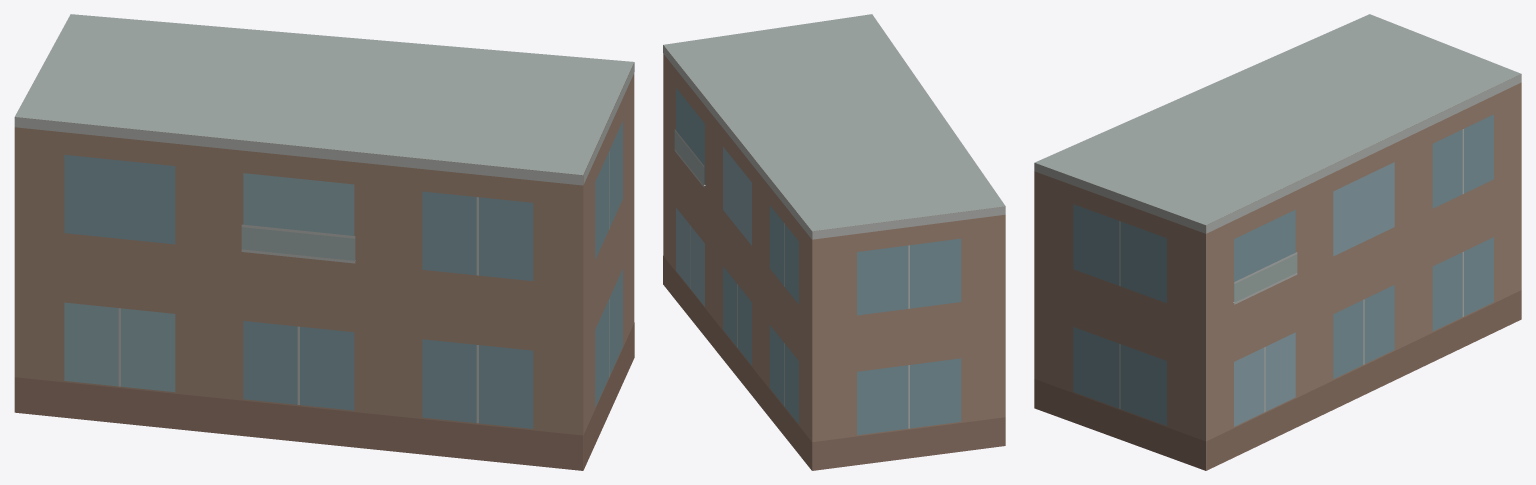
The model's file is survey-upis-32975795.glb.
The picture shows the model from 3 angles, left to right: view 1: azimuth 30°, elevation 25°; view 2: azimuth 150°, elevation 25°; view 3: azimuth 270°, elevation 25°; orthographic projection. The views are drawn at different scales.
Visible parts, largest first — view 1: survey-upis-32975795.tmp; view 2: survey-upis-32975795.tmp; view 3: survey-upis-32975795.tmp.
Part boxes in pixels (box(x1,y1,x2,y2)): survey-upis-32975795.tmp: box(14, 14, 634, 470); survey-upis-32975795.tmp: box(663, 14, 1005, 470); survey-upis-32975795.tmp: box(1034, 14, 1521, 470).
Bounding box in the file's own units: 12.93 × 7 × 12.6.
